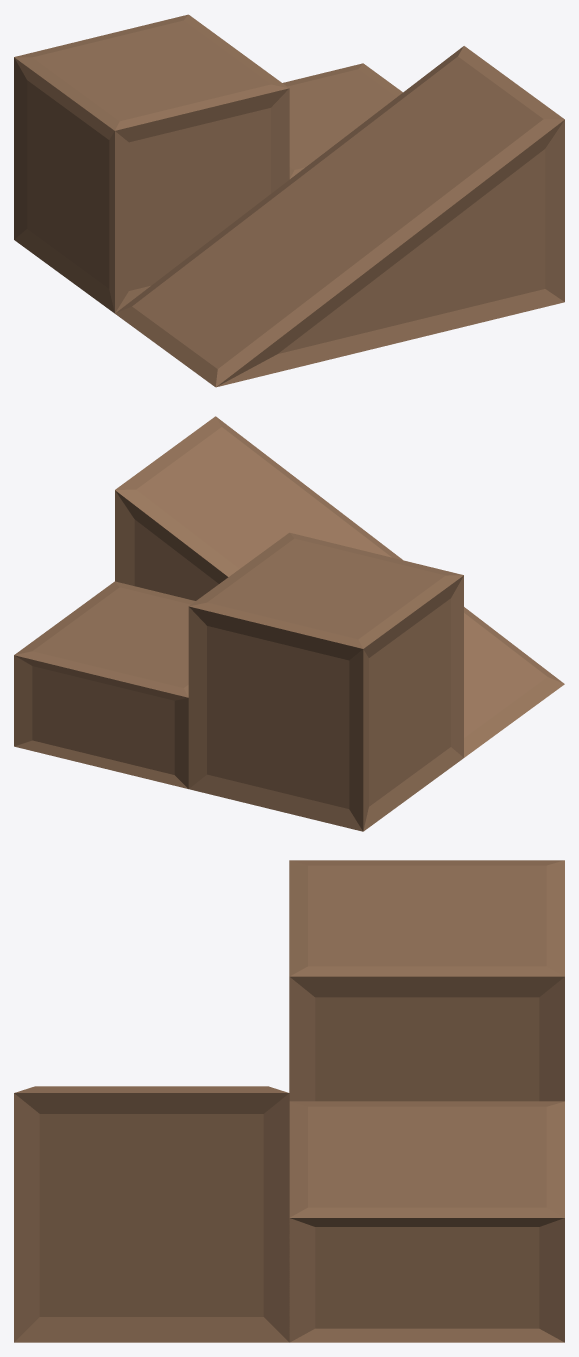
File: Block1.glb
3 views of the same model, one above another, from view 1: azimuth 30°, elevation 25°; view 2: azimuth 150°, elevation 25°; view 3: azimuth 270°, elevation 25° (orthographic). The views are drawn at different scales.
Parts seen in each view (by area): view 1: Ramp, FullBlock, HalfBlock; view 2: FullBlock, Ramp, HalfBlock; view 3: Ramp, HalfBlock, FullBlock.
Part boxes in pixels (x1=…): Ramp: x1=115, y1=46, x2=564, y2=387; FullBlock: x1=14, y1=14, x2=289, y2=313; HalfBlock: x1=282, y1=63, x2=402, y2=178; FullBlock: x1=188, y1=532, x2=463, y2=831; Ramp: x1=115, y1=416, x2=564, y2=757; HalfBlock: x1=14, y1=581, x2=195, y2=788; Ramp: x1=14, y1=1086, x2=289, y2=1342; HalfBlock: x1=289, y1=1101, x2=564, y2=1342; FullBlock: x1=289, y1=860, x2=564, y2=1101.
Size of the model in its own units: 4 by 2.04 by 4.
